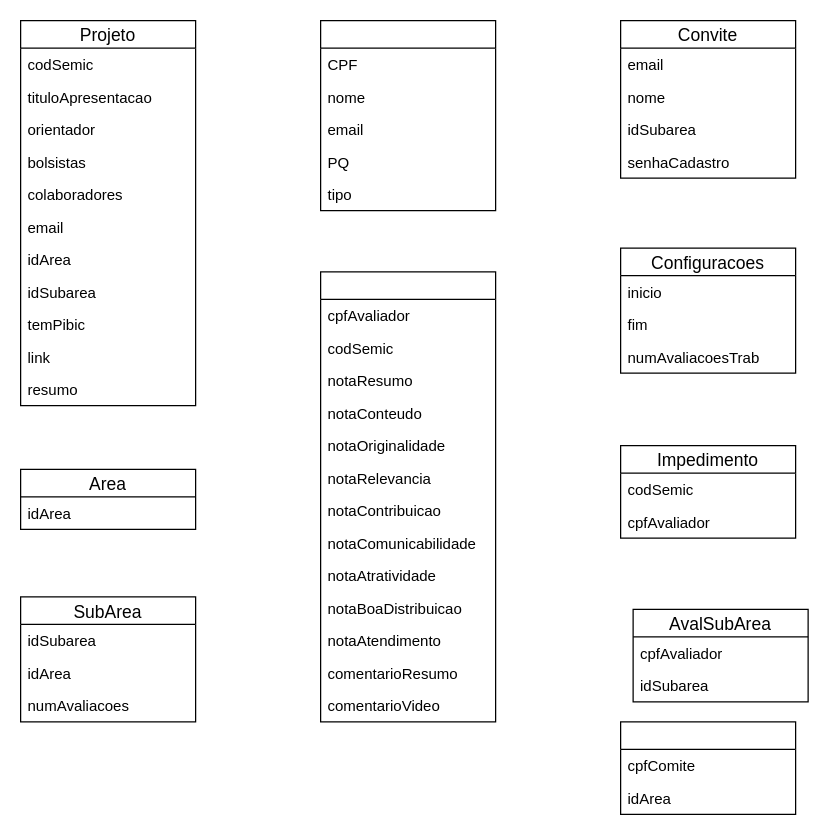
The diagram is 829 pixels wide and 835 high, and some of its shapes have lost their labels. The shapes that lost their labels are listed below. From the top down, each one's box as (x1, y1, x2, y2) in pixels, then its label:
(319, 19, 496, 211): Usuario
(319, 271, 496, 722): Avaliacao
(619, 721, 796, 814): AvalArea
